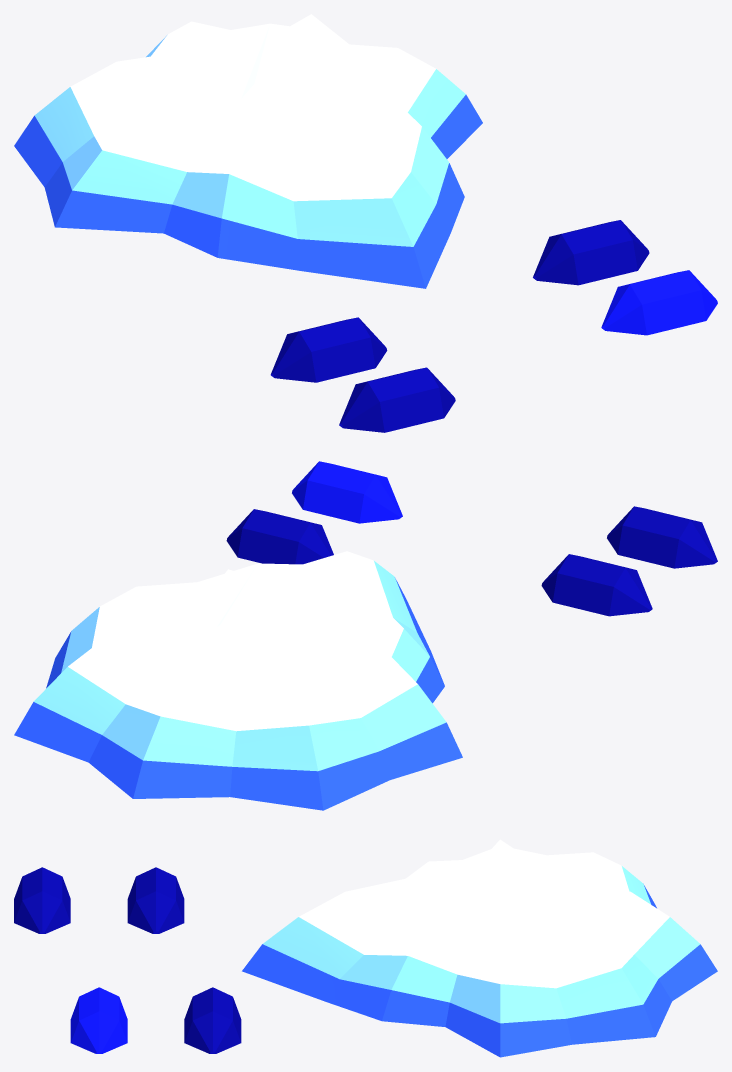
File: shot_ice_145.glb
3 views of the same model, one above another, from view 1: azimuth 30°, elevation 25°; view 2: azimuth 150°, elevation 25°; view 3: azimuth 270°, elevation 25° (orthographic). The views are drawn at different scales.
Visible parts, largest first — view 1: shot_ice_145_cap, shot_ice_145_trail; view 2: shot_ice_145_cap, shot_ice_145_trail; view 3: shot_ice_145_cap, shot_ice_145_trail.
Part boxes in pixels (x1=…): shot_ice_145_cap: x1=14, y1=14, x2=482, y2=288; shot_ice_145_trail: x1=270, y1=220, x2=717, y2=432; shot_ice_145_cap: x1=14, y1=551, x2=462, y2=810; shot_ice_145_trail: x1=226, y1=461, x2=717, y2=616; shot_ice_145_cap: x1=242, y1=839, x2=717, y2=1057; shot_ice_145_trail: x1=14, y1=867, x2=241, y2=1053.
Bounding box in the file's own units: 7.22 × 2.44 × 12.39.
